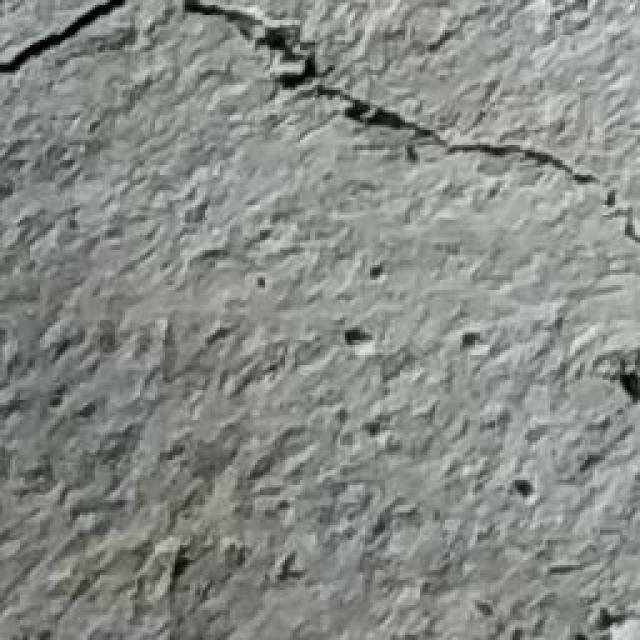Transverse: (0, 0, 640, 408)
